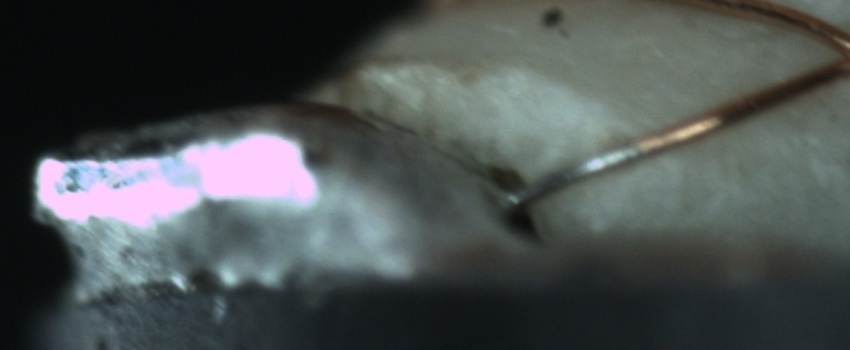TS: (501, 142, 637, 209)
TTCW: (500, 132, 652, 210)
